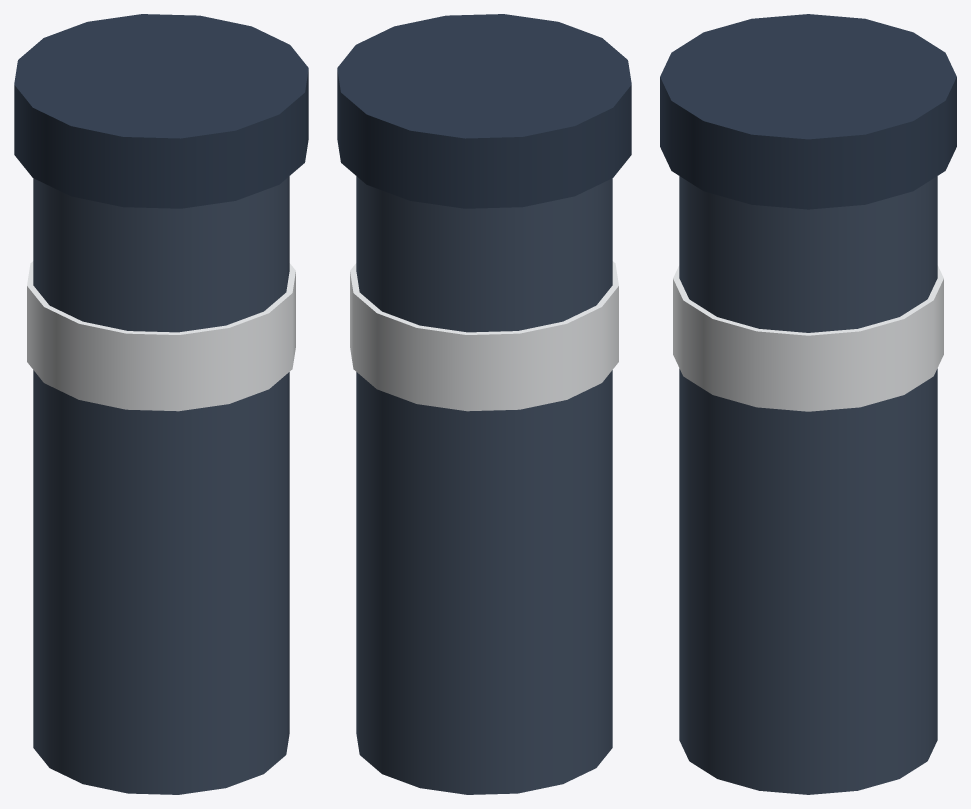
File: bollard.glb
The picture shows the model from 3 angles, left to right: view 1: azimuth 30°, elevation 25°; view 2: azimuth 150°, elevation 25°; view 3: azimuth 270°, elevation 25°; orthographic projection.
Size of the model in its own units: 0.46 by 1.13 by 0.46.
